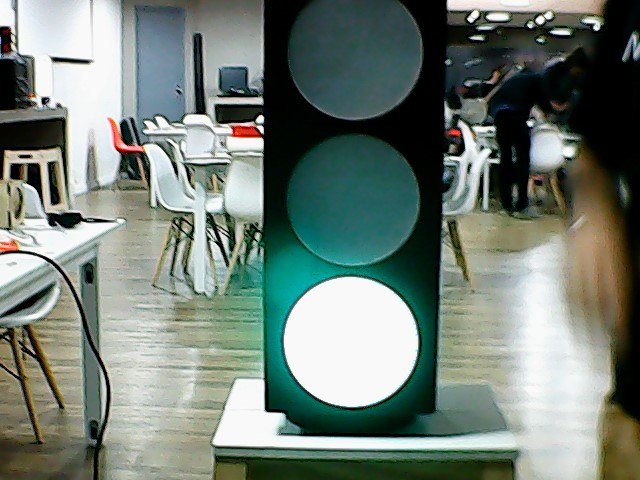verde: (256, 1, 455, 427)
